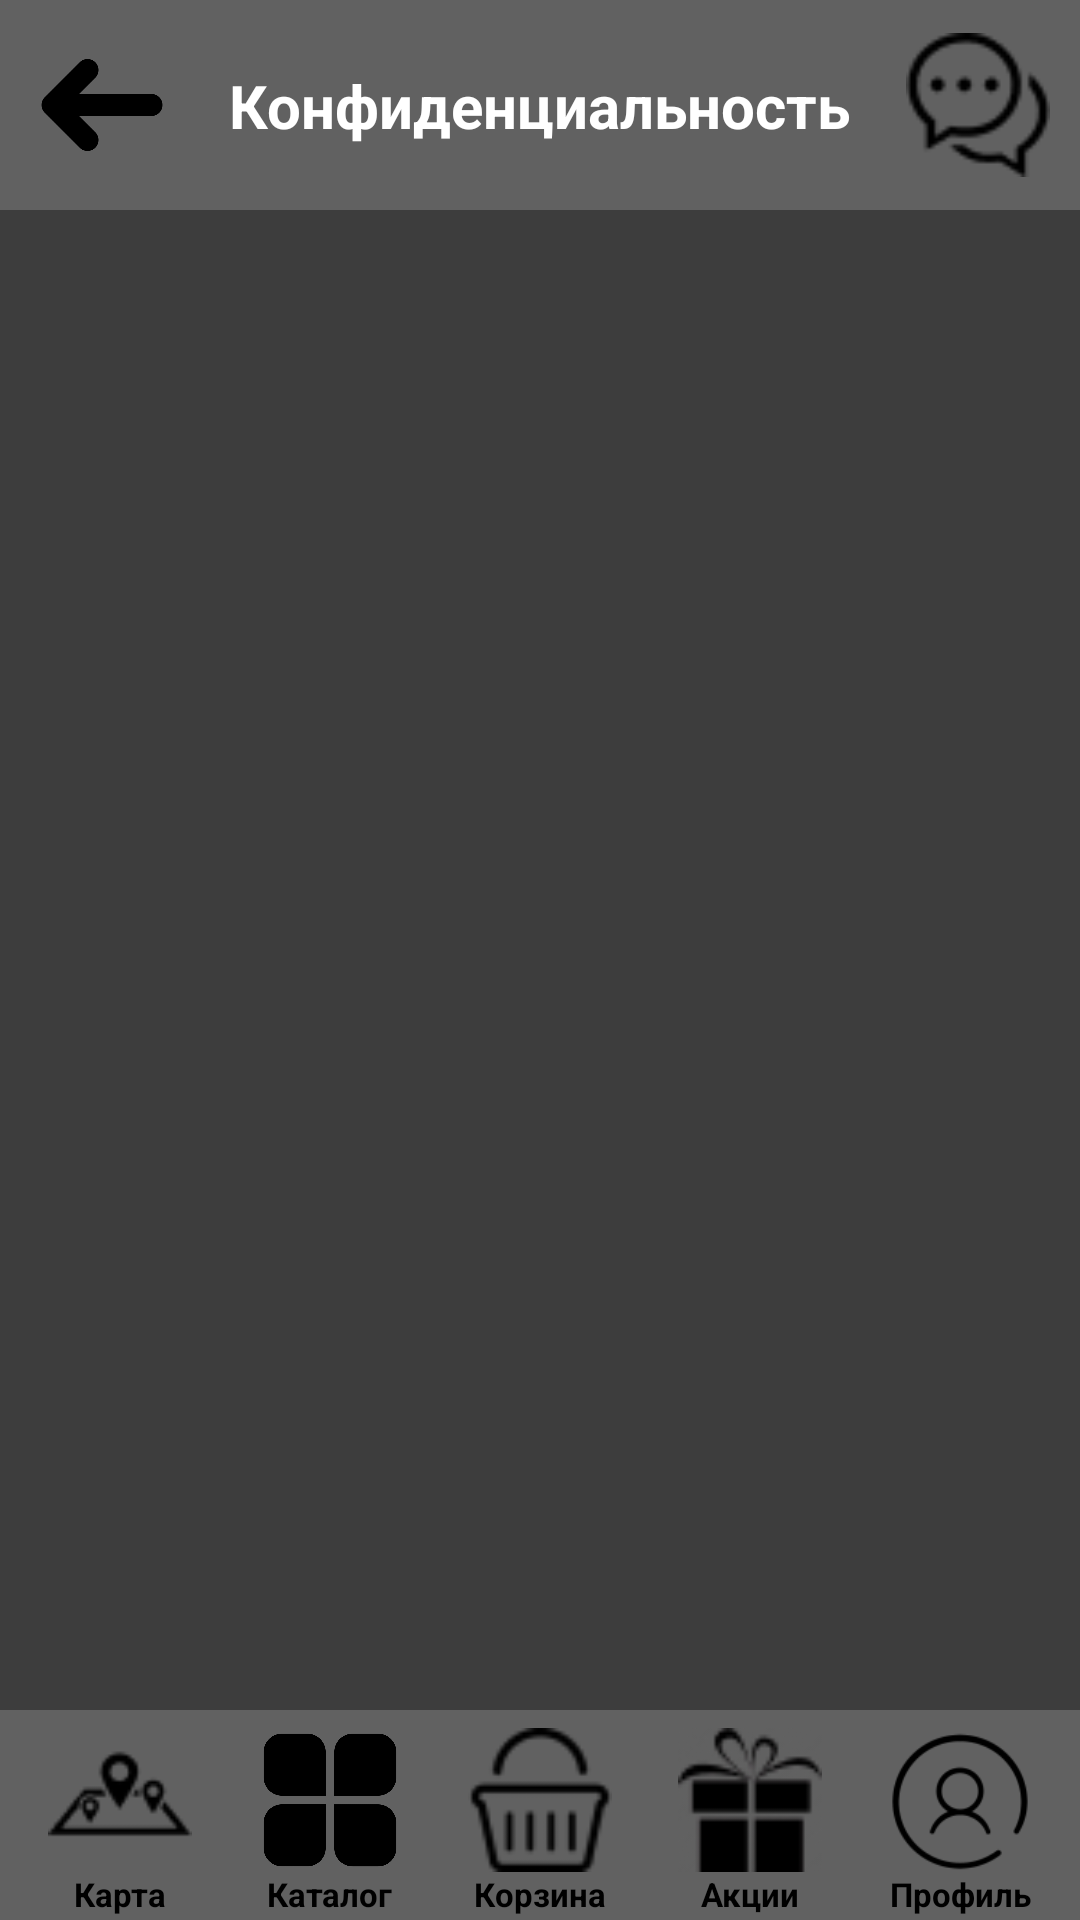

Screen size 1080 x 1920. Icon name, then its box in pixels as region(x1, y1, x2, y2):
Контакты: region(906, 33, 1050, 177)
